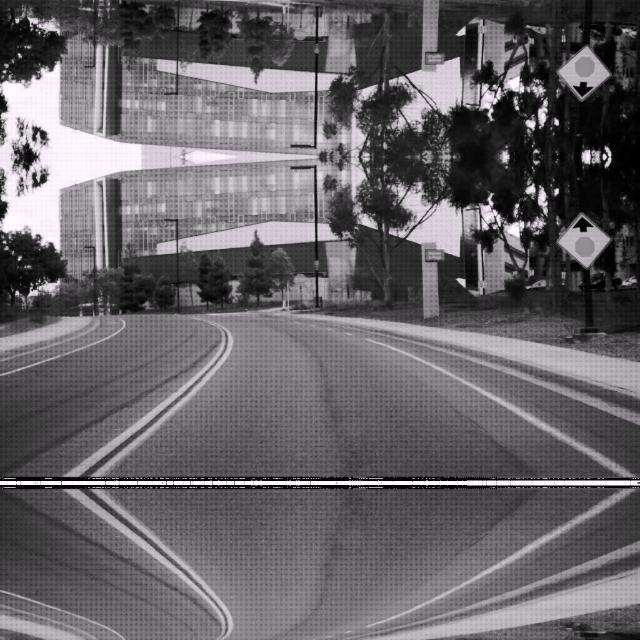stop: (294, 271, 306, 285), (294, 27, 306, 41)
